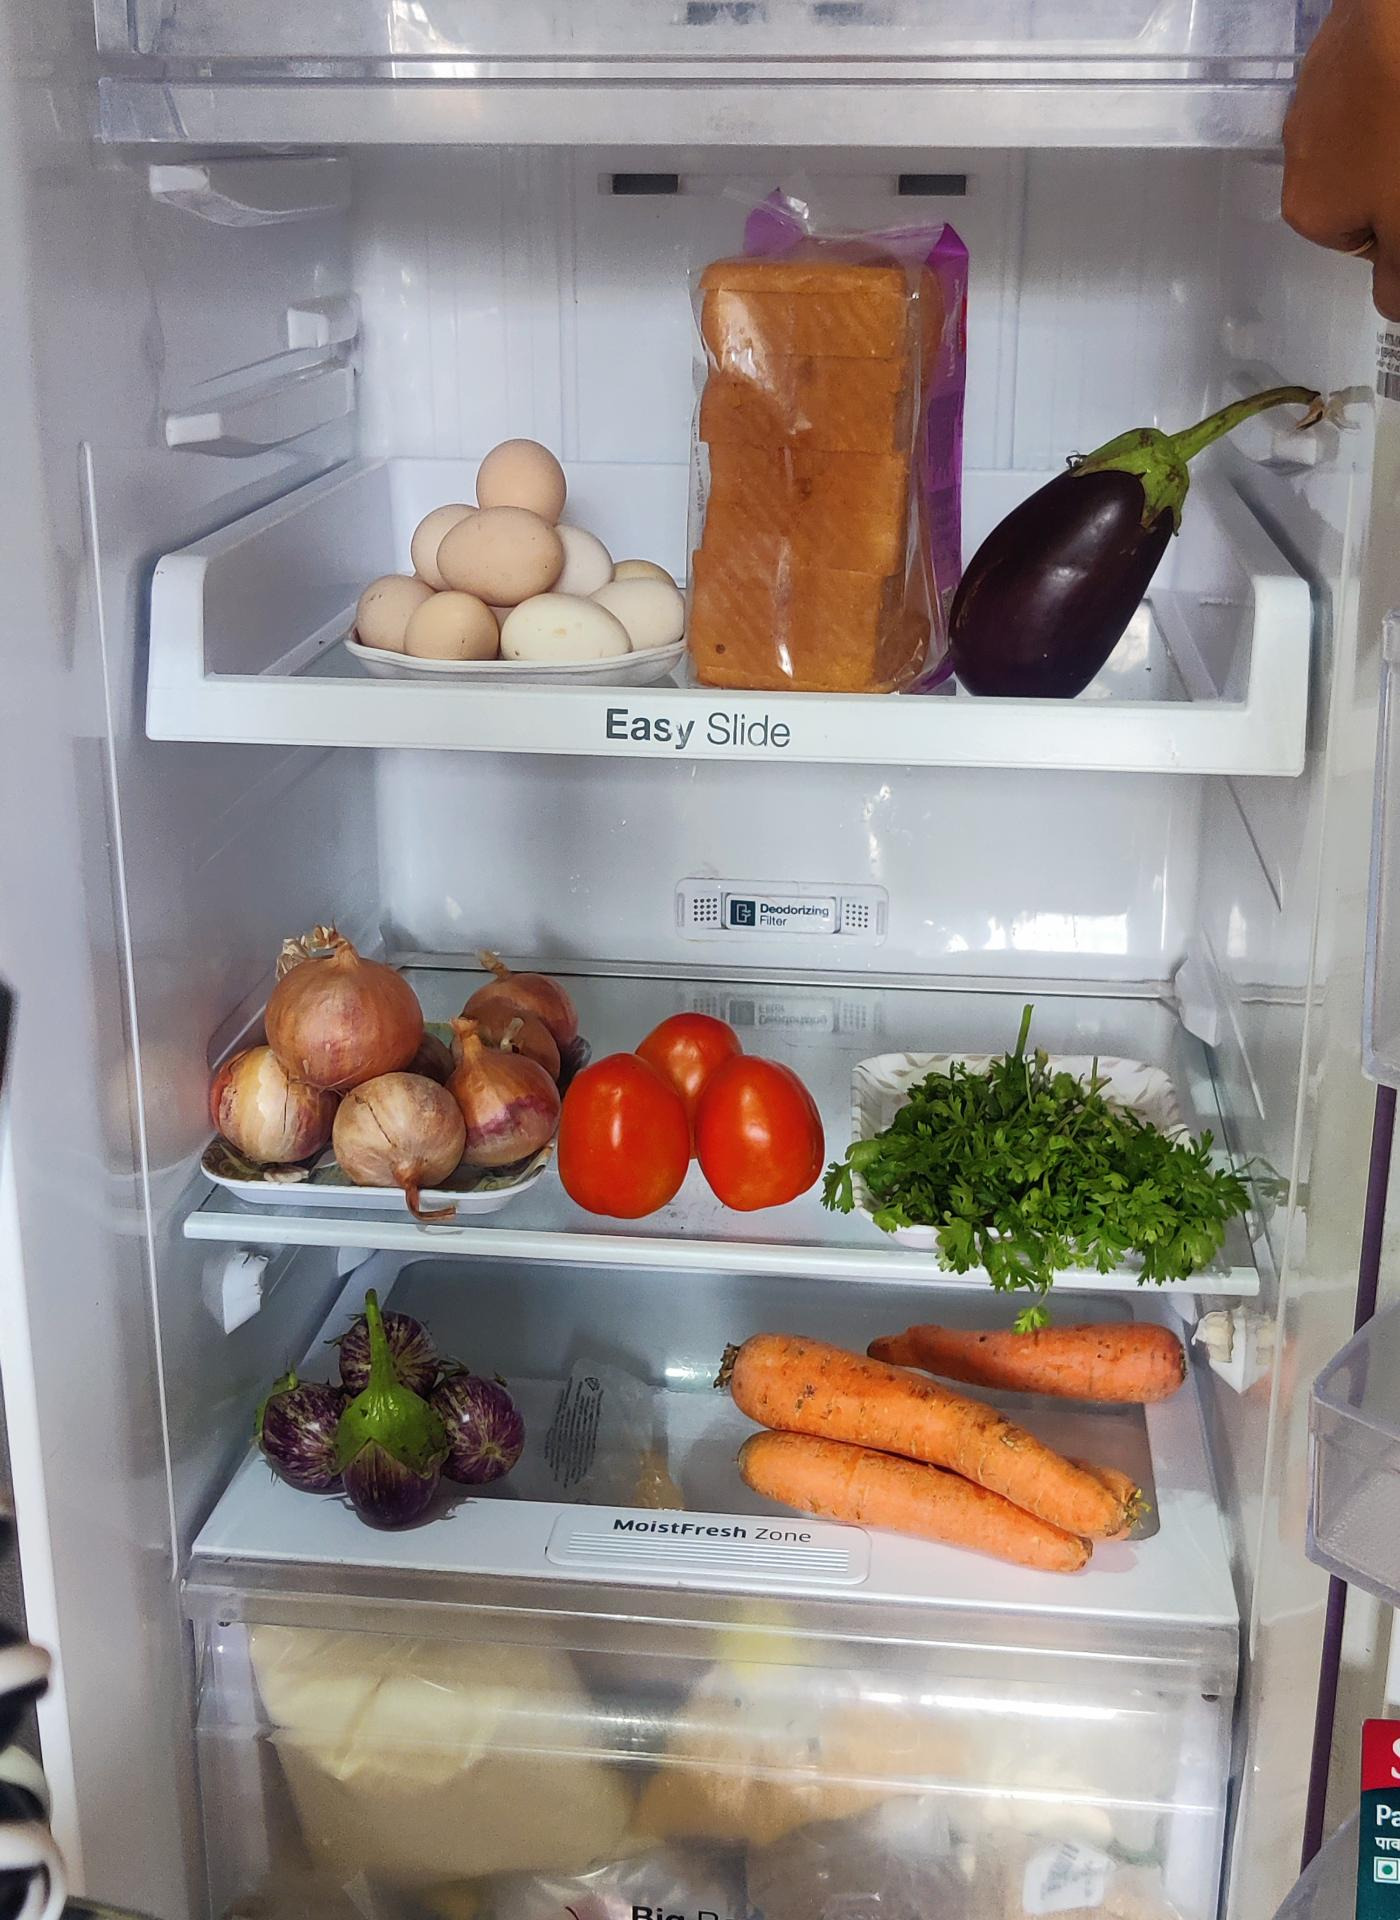bread: (681, 218, 974, 690)
brinjal: (258, 1312, 516, 1538), (981, 395, 1181, 686)
carrots: (717, 1331, 1179, 1577)
coriander: (844, 1060, 1255, 1291)
egg: (343, 431, 668, 665)
onion: (213, 927, 586, 1190)
tomato: (558, 1012, 823, 1219)
